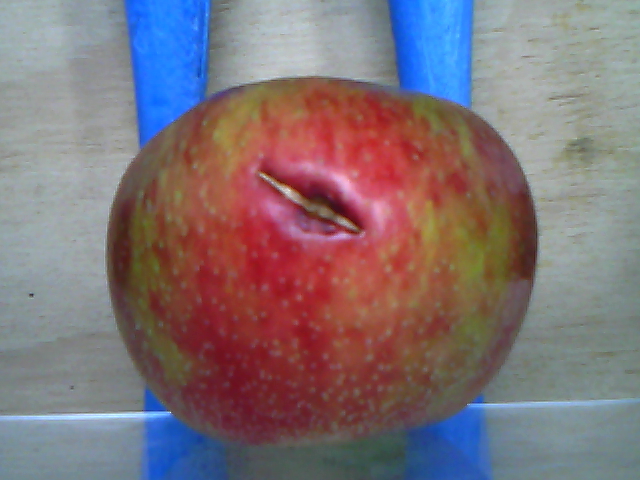cut: (254, 165, 366, 235)
